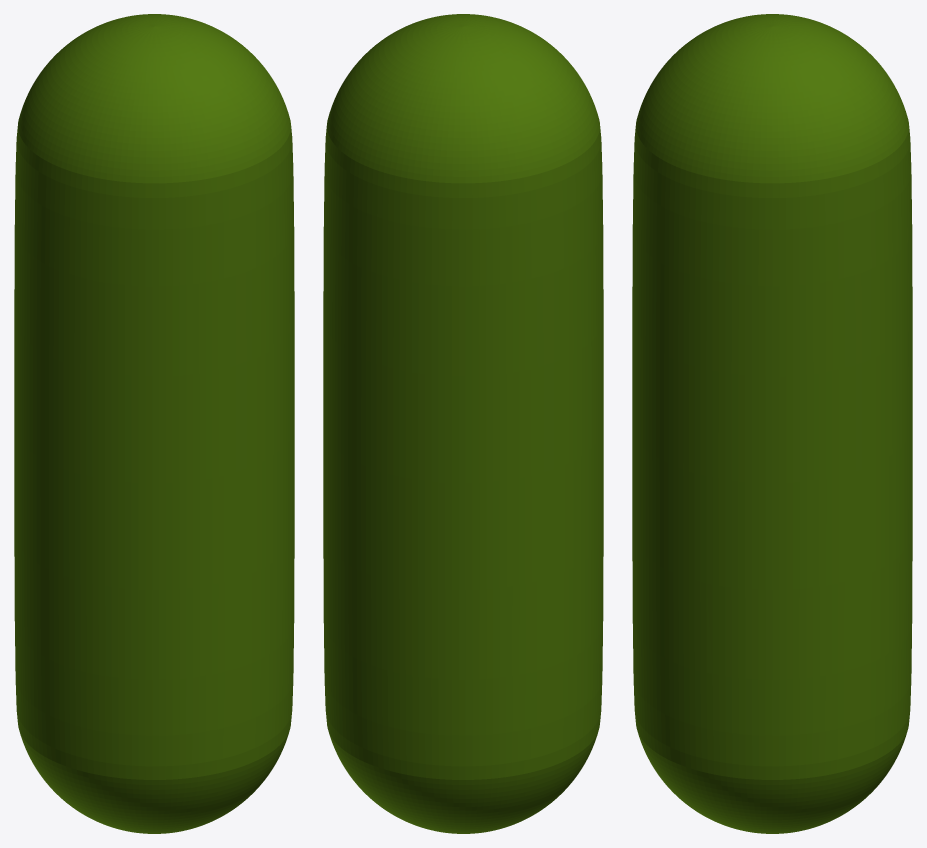
Rendered from android_arm.obj.
3 renders of one model, left to right at view 1: azimuth 30°, elevation 25°; view 2: azimuth 150°, elevation 25°; view 3: azimuth 270°, elevation 25°, orthographic.
Visible parts, largest first — view 1: ruka_leva_Sphere.006; view 2: ruka_leva_Sphere.006; view 3: ruka_leva_Sphere.006.
Part boxes in pixels (x1,y1,x2,y2): ruka_leva_Sphere.006: (14,14,294,833); ruka_leva_Sphere.006: (323,14,603,833); ruka_leva_Sphere.006: (632,14,912,833).
Bounding box in the file's own units: 0.4416 × 1.38 × 0.4416.
